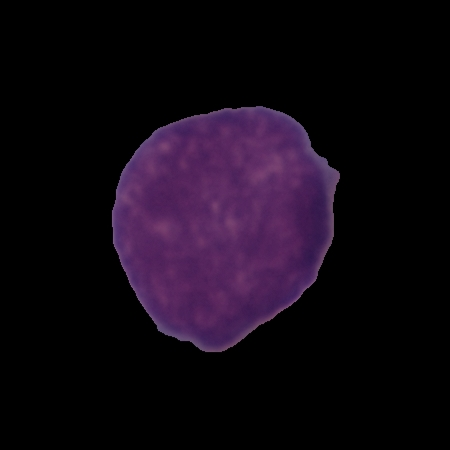HEM: (106, 102, 345, 355)
